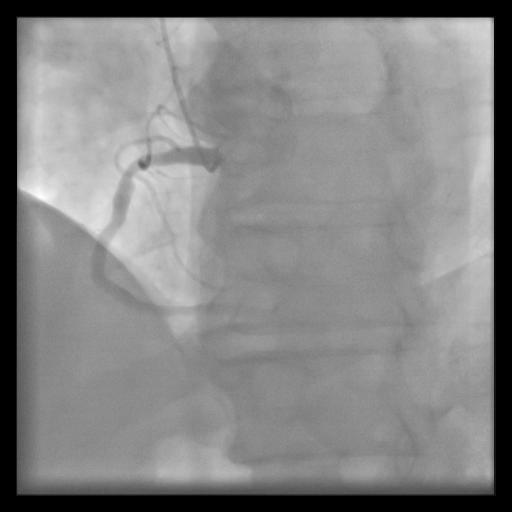Stenosis: (123, 155, 150, 181)
